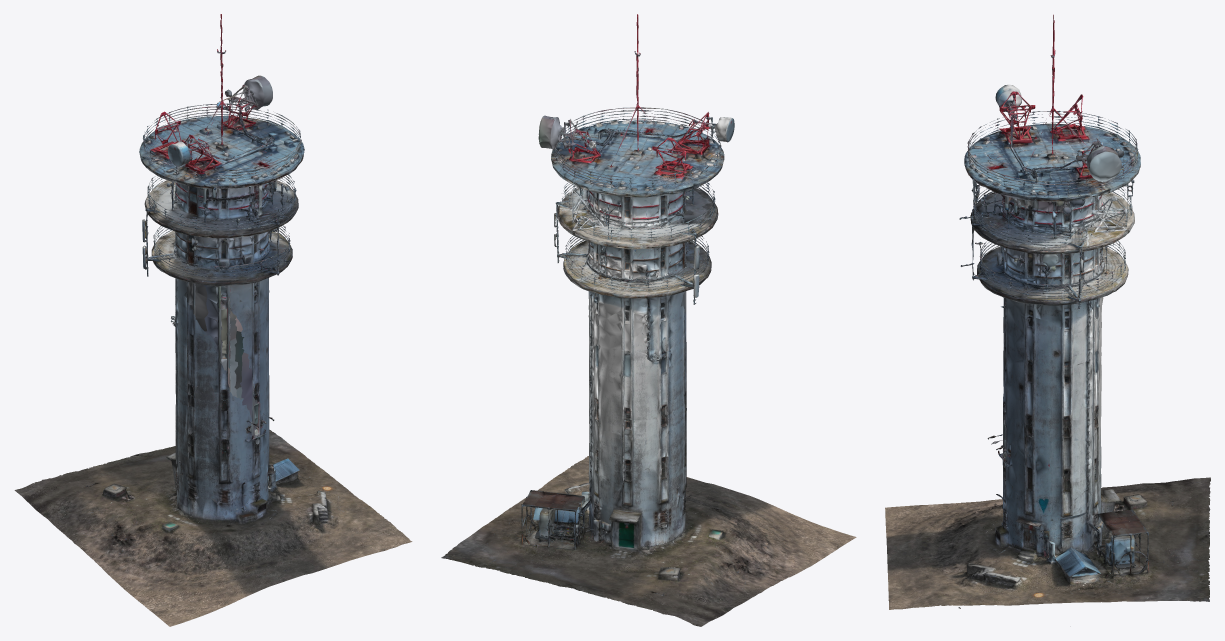
File: SM_SkalkaTower.glb
3 renders of one model, left to right at view 1: azimuth 30°, elevation 25°; view 2: azimuth 150°, elevation 25°; view 3: azimuth 270°, elevation 25°, orthographic. The views are drawn at different scales.
Parts seen in each view (by area): view 1: SM_SkalkaTower; view 2: SM_SkalkaTower; view 3: SM_SkalkaTower.
Boxes of the visible parts, left/top/right/bottom form: SM_SkalkaTower: left=14, top=14, right=412, bottom=626; SM_SkalkaTower: left=441, top=14, right=856, bottom=626; SM_SkalkaTower: left=885, top=14, right=1210, bottom=609.
Size of the model in its own units: 23.68 by 47.69 by 25.08.
Materials: 1 (1 with a texture image).
